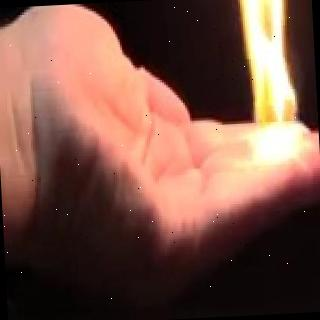fire: (200, 0, 304, 186)
